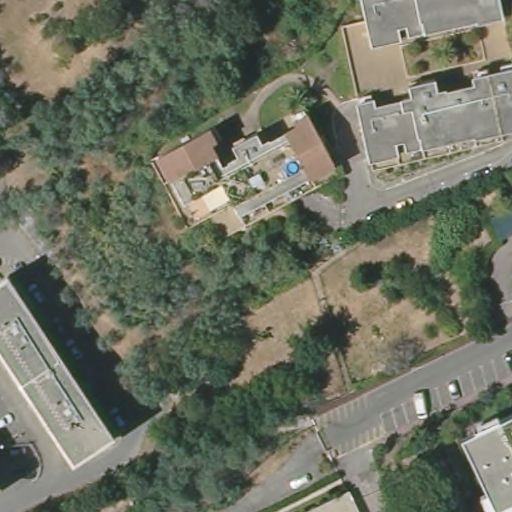pool: (284, 157, 303, 176)
